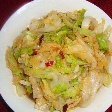juanxincairoupian: (5, 13, 112, 112)
